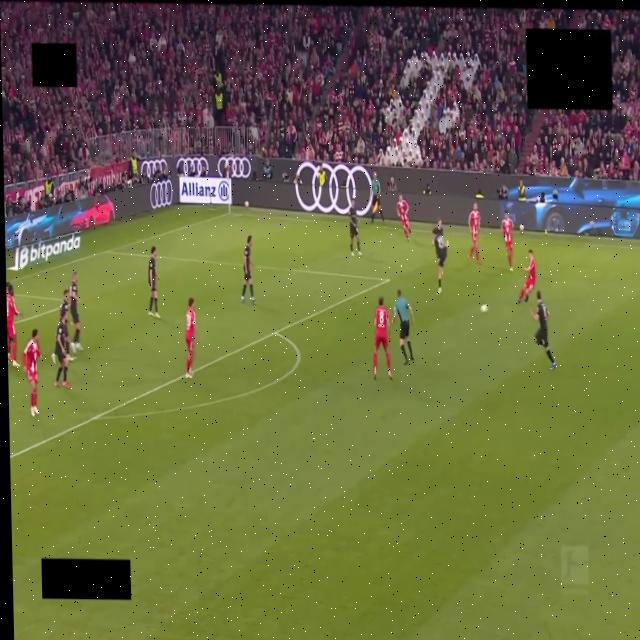ball: (480, 304, 488, 313)
player: (531, 291, 556, 369), (23, 328, 41, 416), (374, 297, 392, 379), (6, 283, 20, 367), (55, 314, 70, 389), (69, 272, 83, 352), (433, 219, 448, 293), (185, 299, 199, 378), (241, 236, 256, 305), (517, 250, 536, 304), (148, 246, 160, 318), (468, 203, 481, 264), (501, 211, 513, 270), (350, 199, 362, 256), (396, 194, 410, 241), (65, 328, 73, 361), (224, 163, 231, 178)
referee: (392, 290, 413, 365)
